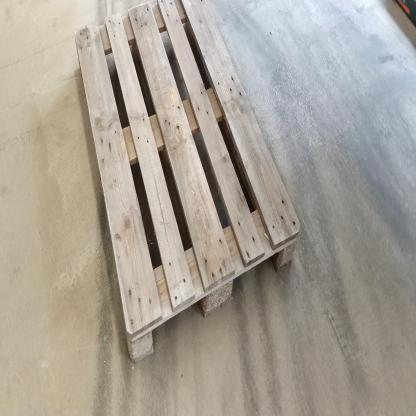BoxFace: (71, 0, 307, 377)
